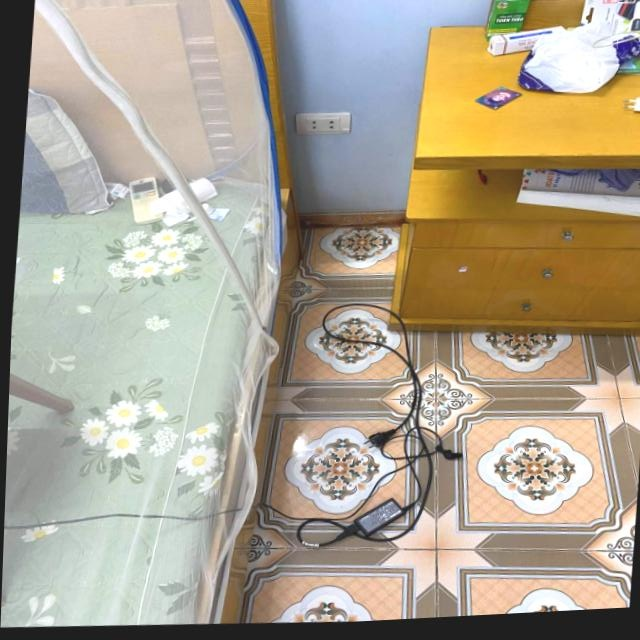outlet: (292, 112, 351, 139)
